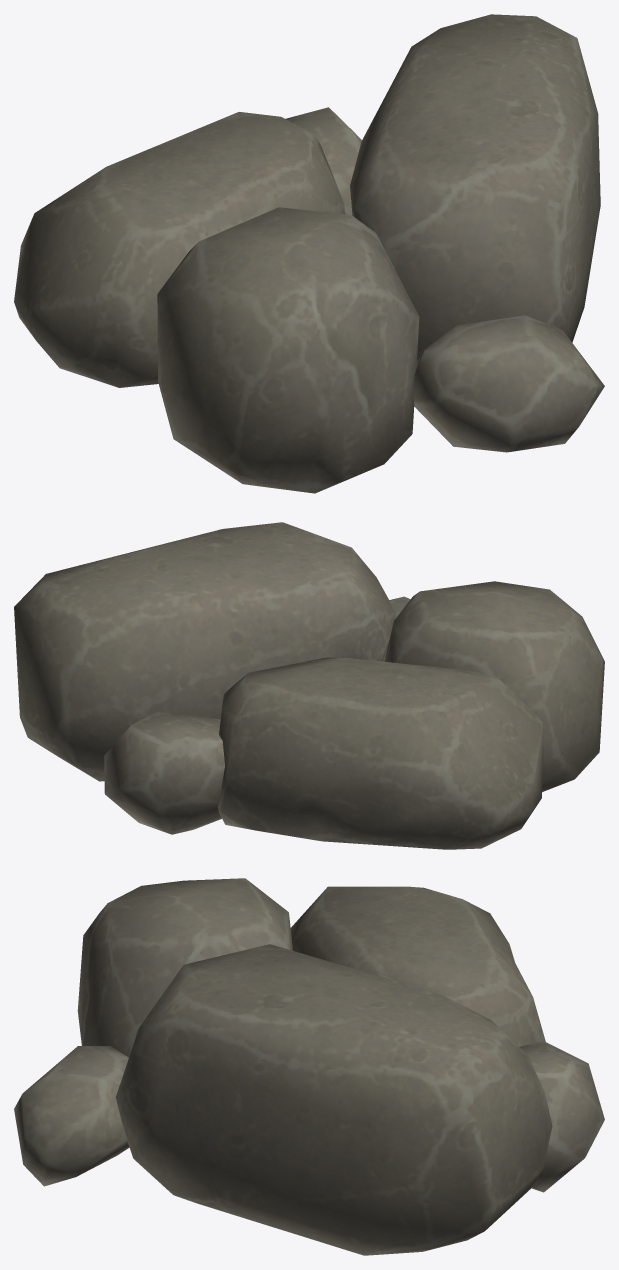
The model's file is MSH_fwOF_Debris_05.fbx.
3 views of the same model, one above another, from view 1: azimuth 30°, elevation 25°; view 2: azimuth 150°, elevation 25°; view 3: azimuth 270°, elevation 25° (orthographic). The views are drawn at different scales.
Visible parts, largest first — view 1: MSH_fwOF_Debris_05_LOD0; view 2: MSH_fwOF_Debris_05_LOD0; view 3: MSH_fwOF_Debris_05_LOD0.
Part boxes in pixels (x1,y1,x2,y2): MSH_fwOF_Debris_05_LOD0: [14, 14, 604, 493]; MSH_fwOF_Debris_05_LOD0: [14, 522, 604, 849]; MSH_fwOF_Debris_05_LOD0: [14, 878, 604, 1255].
Size of what is drawn, in the model's own units: 0.8746 by 0.3831 by 0.8036.
